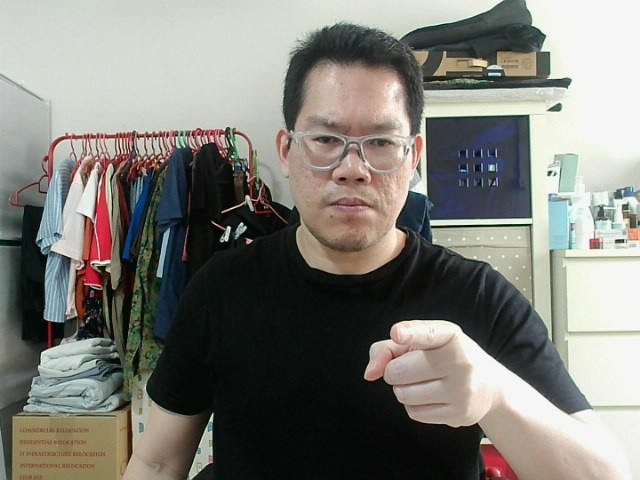you: (371, 331, 491, 415)
